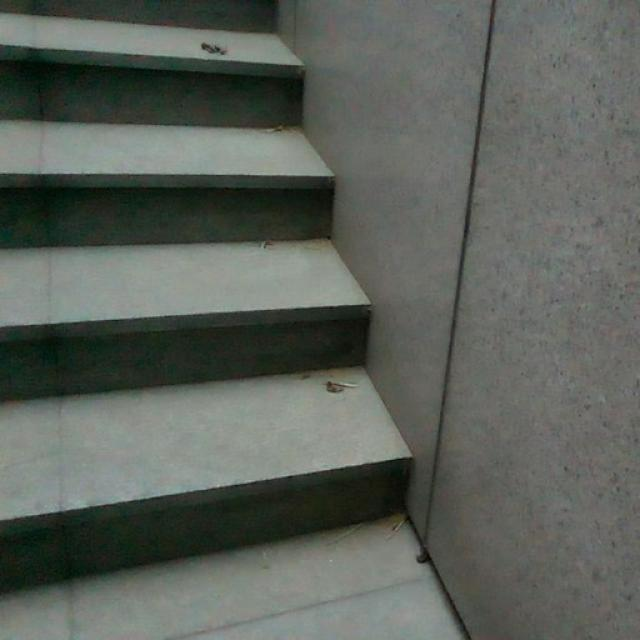stair: (0, 12, 407, 570)
